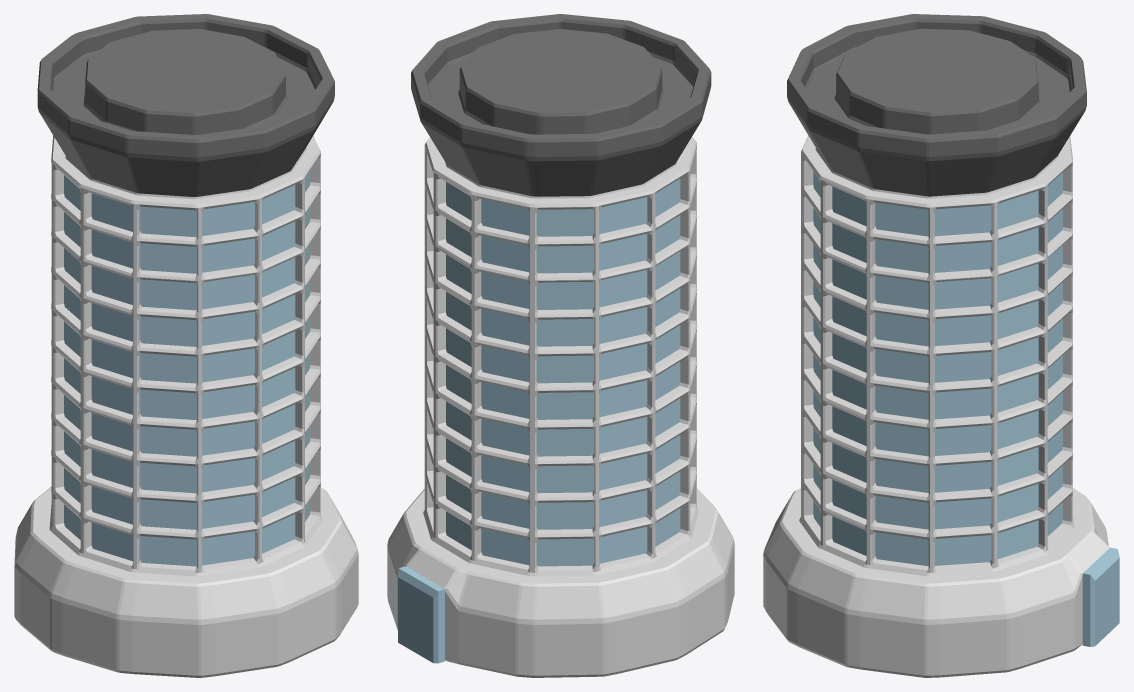
Rendered from Building5.fbx.
The picture shows the model from 3 angles, left to right: view 1: azimuth 30°, elevation 25°; view 2: azimuth 150°, elevation 25°; view 3: azimuth 270°, elevation 25°; orthographic projection.
Parts seen in each view (by area): view 1: building, windows, building.001; view 2: building, windows, building.001, Deur; view 3: building, windows, building.001, Deur.
Boxes of the visible parts, bbox=[...] form: building: bbox=[14, 135, 358, 677]; windows: bbox=[64, 170, 310, 566]; building.001: bbox=[37, 14, 334, 196]; building: bbox=[387, 136, 734, 677]; windows: bbox=[446, 178, 680, 566]; building.001: bbox=[411, 14, 711, 196]; Deur: bbox=[398, 566, 444, 663]; building: bbox=[763, 135, 1109, 677]; windows: bbox=[813, 171, 1062, 566]; building.001: bbox=[787, 14, 1086, 196]; Deur: bbox=[1082, 547, 1119, 646].
Bounding box in the file's own units: 2980 × 5081 × 3071.
